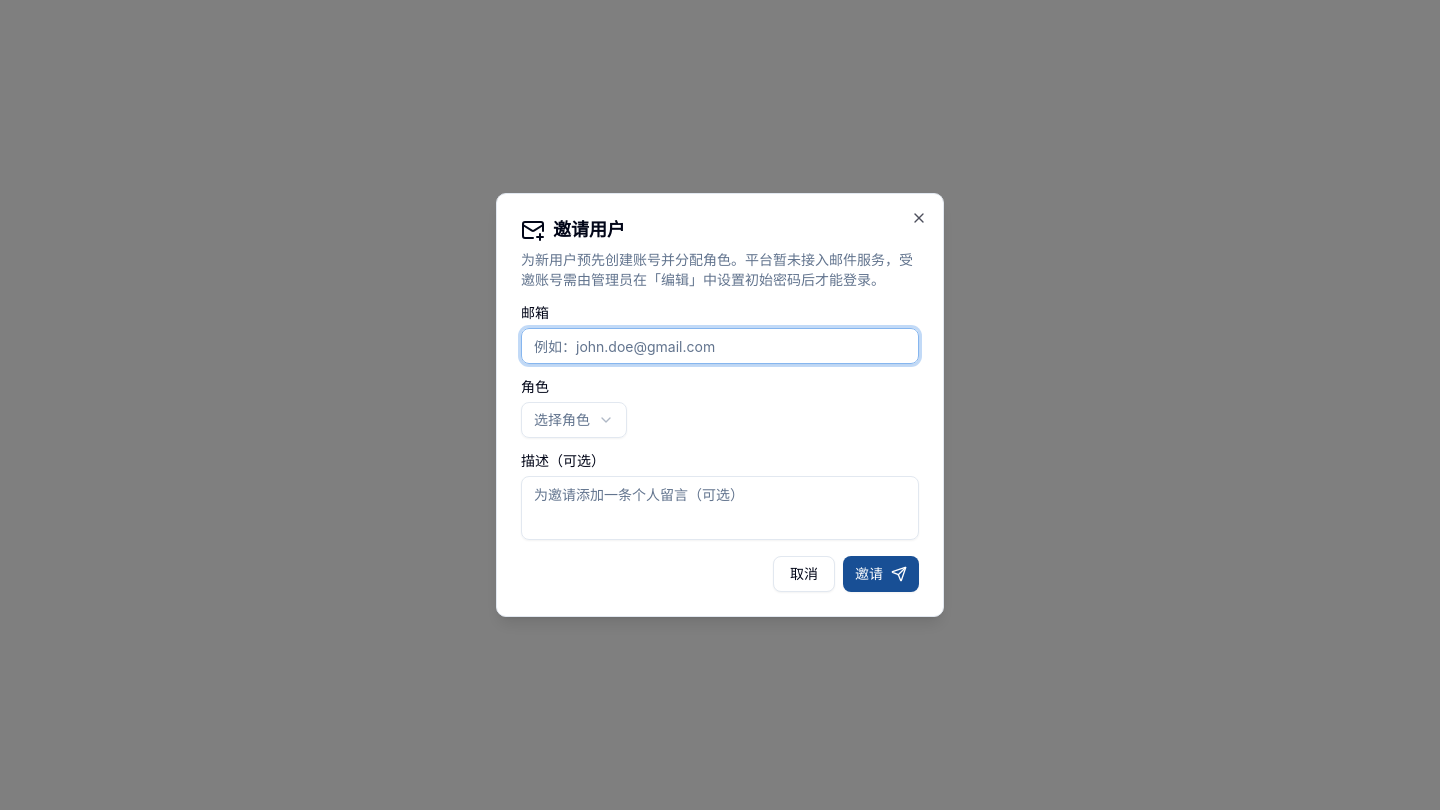
Scenario: UsersInviteDialog › shows a duplicate email error from the server on the email field
In the field labelled "邮箱": (720, 346) [521,328,919,364], type "dup@example.com"
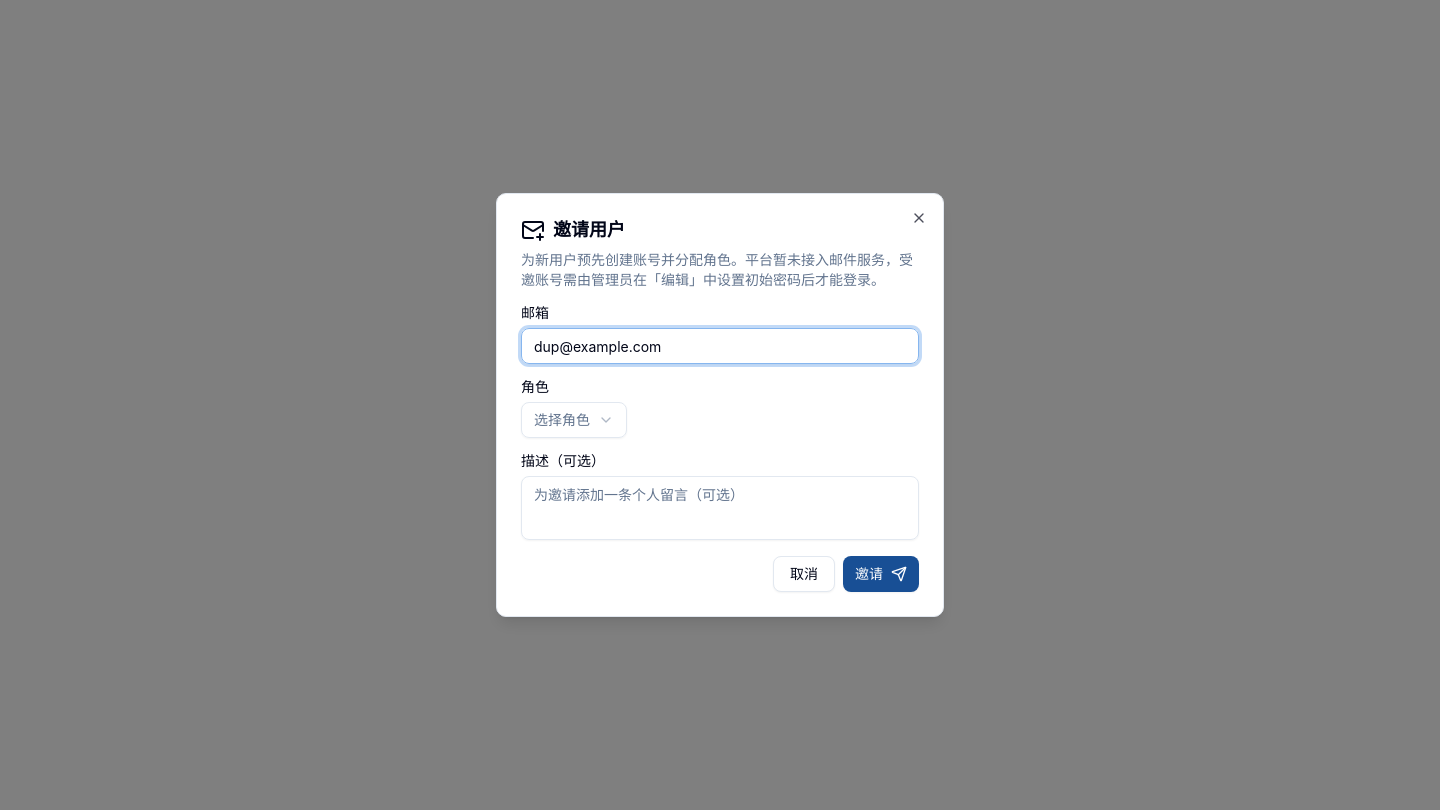
Click the dropdown labelled "选择角色": (574, 420) [521,402,627,438]
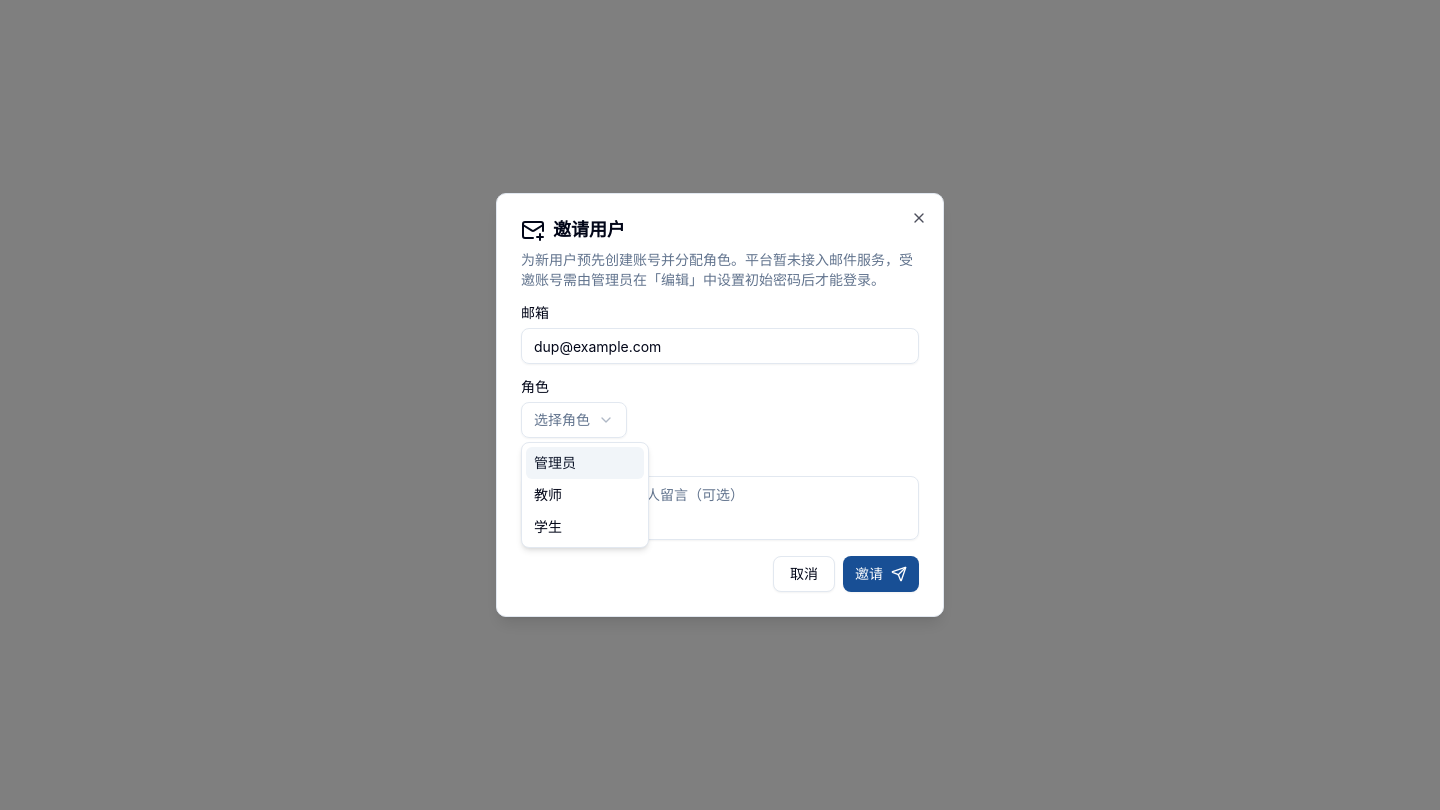
Click the option "学生": (548, 526) [534,518,562,535]
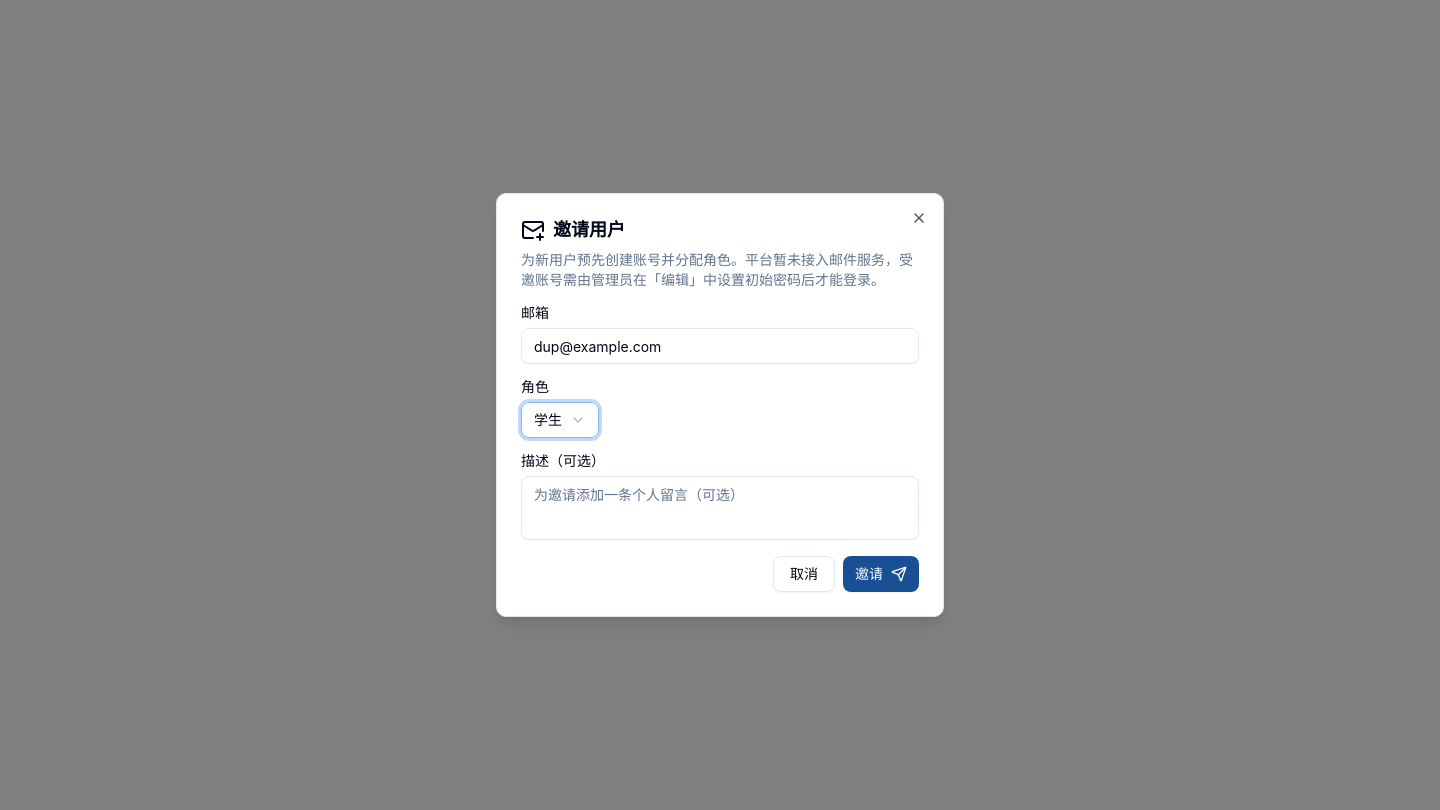
Click the button "邀请": (881, 574) [843,556,919,592]
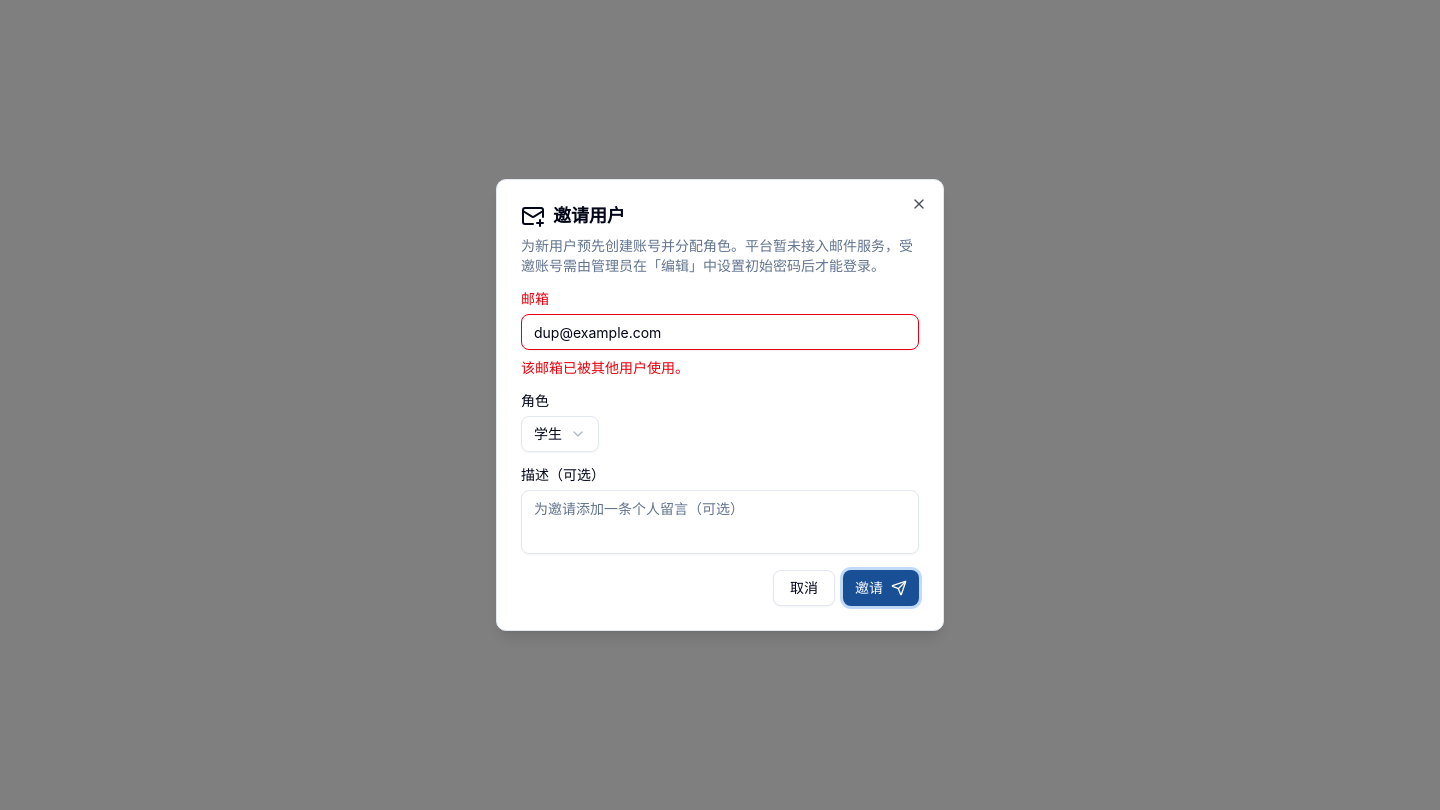
Check: the text "该邮箱已被其他用户使用。" is shown, box [521,359,689,376]
